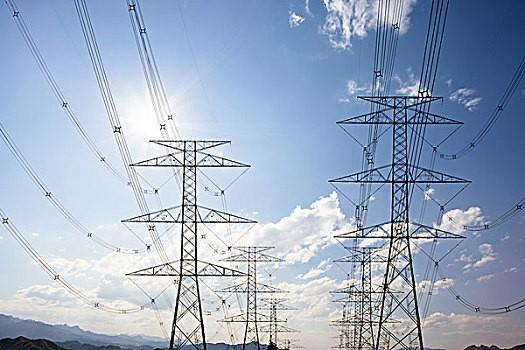power_tower: (324, 86, 458, 350), (122, 134, 260, 350), (332, 238, 395, 350), (221, 240, 285, 350), (257, 291, 298, 350)
